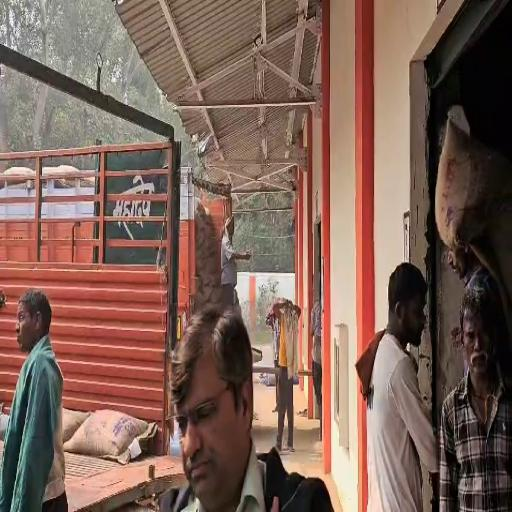bag: (431, 111, 512, 256)
